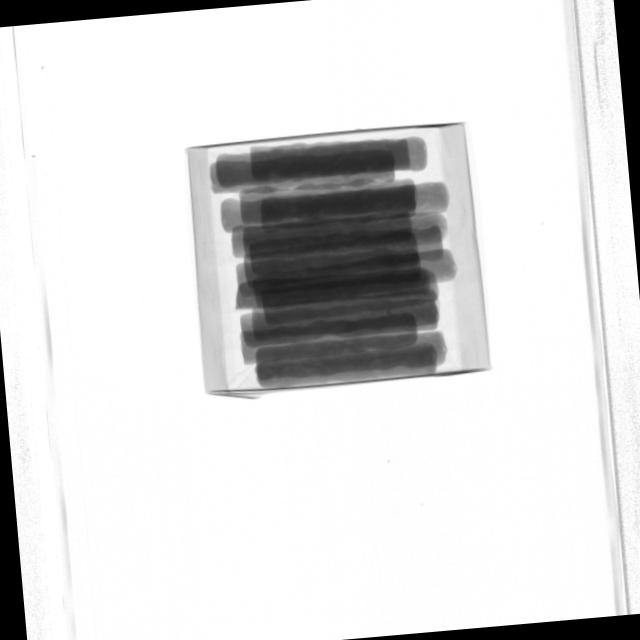ym: (386, 307, 393, 315)
